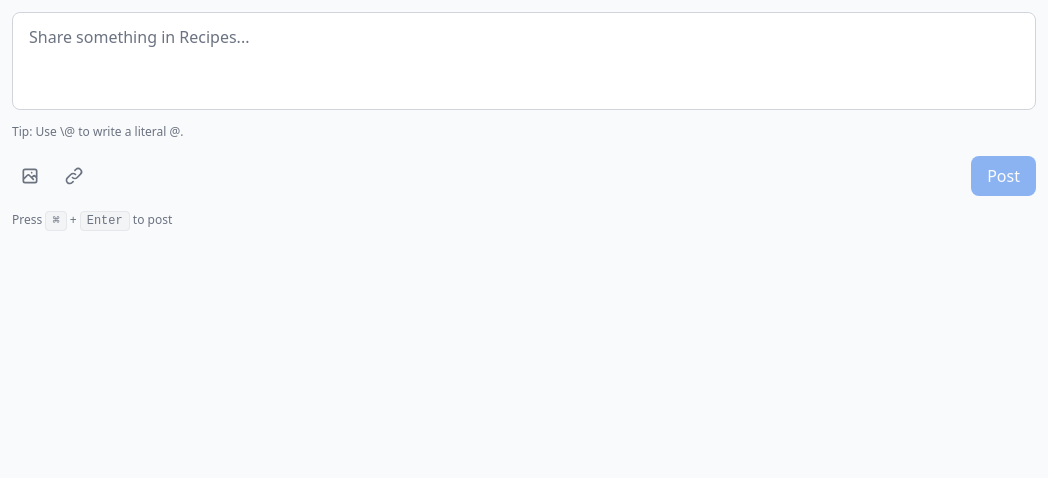
PostForm › parses recipe metadata on demand in recipe section
Type "Check https://example.com" into the text box named "Post content" at (524, 61), box [12,12,1036,110]
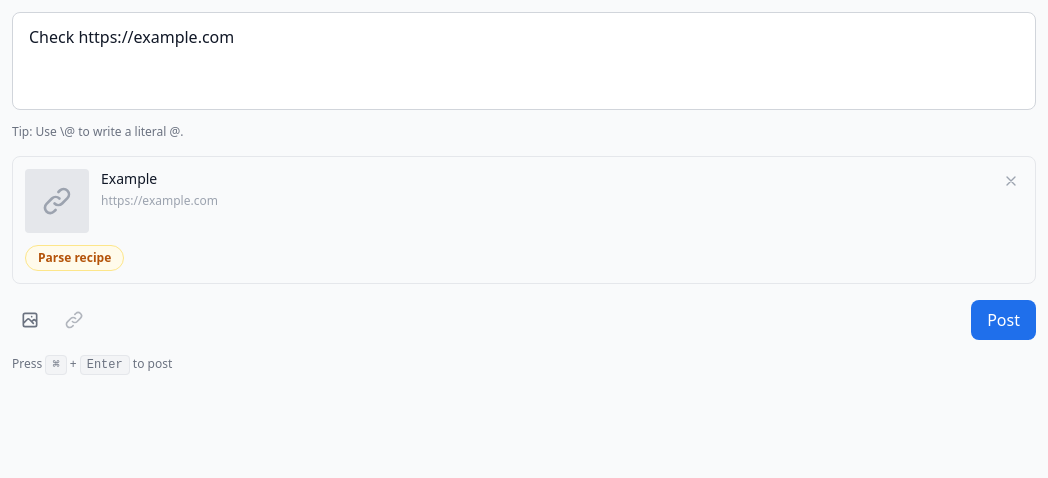
Click the button "Parse recipe" at (75, 258), box [25,245,124,271]
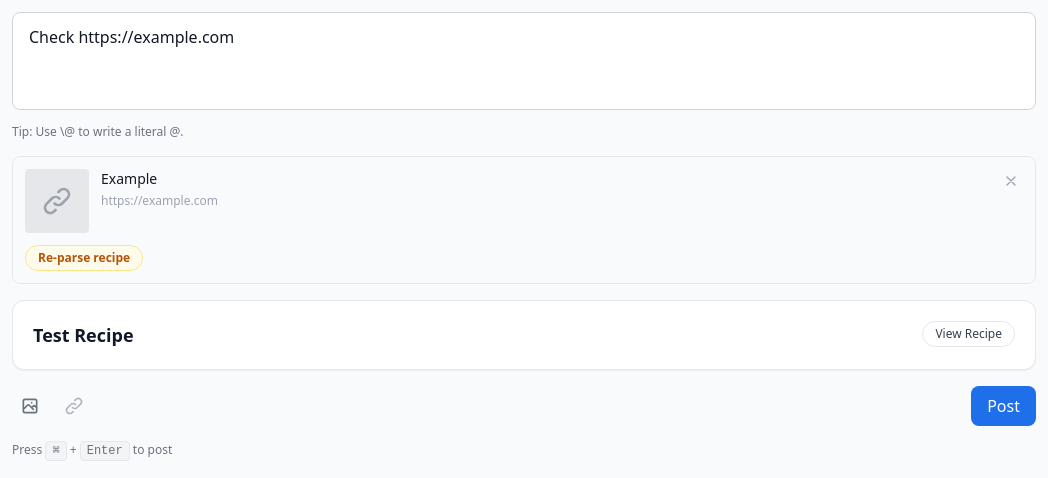
Check: the heading with test id "recipe-title" reads "Test Recipe", box [33,323,134,347]
